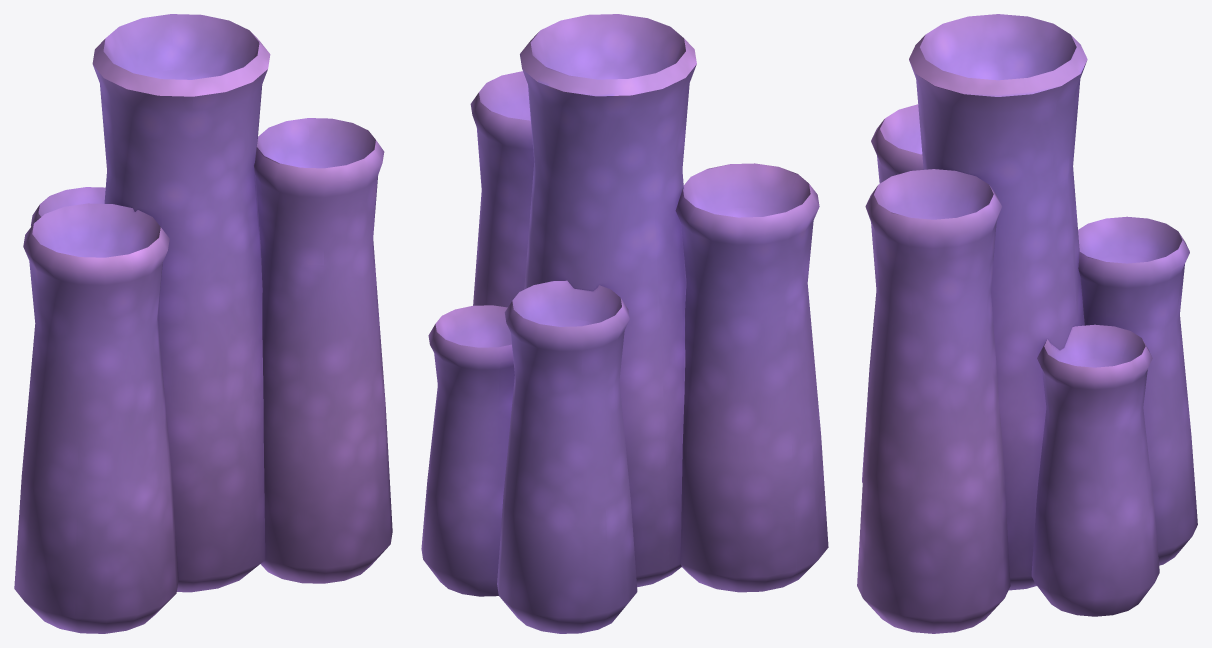
Rendered from WM_CoralFan_B.fbx.
3 views of the same model, side by side, from view 1: azimuth 30°, elevation 25°; view 2: azimuth 150°, elevation 25°; view 3: azimuth 270°, elevation 25° (orthographic).
Visible parts, largest first — view 1: WM_CoralFan_B_LOD0; view 2: WM_CoralFan_B_LOD0; view 3: WM_CoralFan_B_LOD0.
Part boxes in pixels (x1=…): WM_CoralFan_B_LOD0: x1=14, y1=14, x2=392, y2=633; WM_CoralFan_B_LOD0: x1=421, y1=14, x2=828, y2=633; WM_CoralFan_B_LOD0: x1=857, y1=14, x2=1197, y2=633.
Size of what is drawn, in the model's own units: 0.757 by 1.05 by 0.635.
